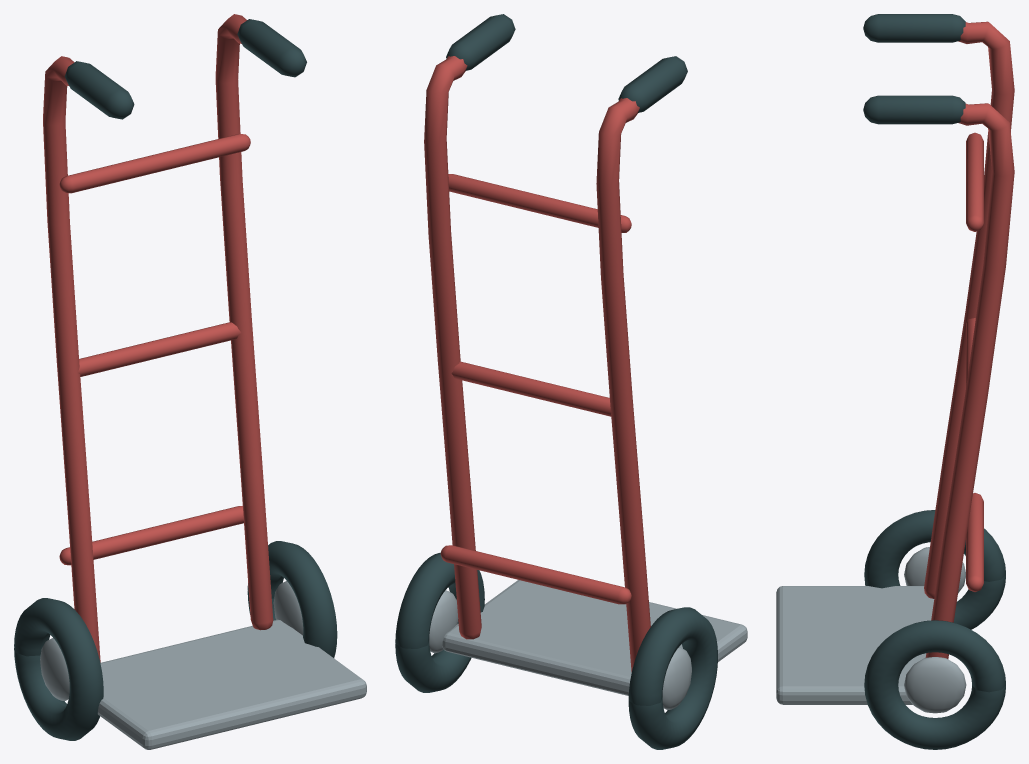
File: handtruck.glb
3 renders of one model, left to right at view 1: azimuth 30°, elevation 25°; view 2: azimuth 150°, elevation 25°; view 3: azimuth 270°, elevation 25°, orthographic. The views are drawn at different scales.
Parts seen in each view (by area): view 1: Toe_plate, Red_frame.001, Red_frame, Tyre, Tyre.001, Crossbar.002, Crossbar, Crossbar.001, Rubber_grip.001, Rubber_grip, Hub, Hub.001; view 2: Toe_plate, Red_frame.001, Red_frame, Tyre, Tyre.001, Crossbar, Crossbar.002, Crossbar.001, Rubber_grip, Rubber_grip.001, Hub, Hub.001; view 3: Toe_plate, Red_frame.001, Tyre.001, Red_frame, Tyre, Rubber_grip.001, Rubber_grip, Hub.001, Crossbar.002, Crossbar, Hub.
Part boxes in pixels (x1,y1,x2,y2): Toe_plate: [97, 619, 366, 749]; Red_frame.001: [215, 14, 273, 630]; Red_frame: [43, 56, 100, 662]; Tyre: [14, 598, 103, 740]; Tyre.001: [247, 541, 337, 657]; Crossbar.002: [59, 134, 250, 193]; Crossbar: [59, 506, 243, 565]; Crossbar.001: [78, 322, 241, 376]; Rubber_grip.001: [237, 19, 306, 77]; Rubber_grip: [64, 61, 134, 119]; Hub: [40, 638, 69, 700]; Hub.001: [273, 581, 303, 635]; Toe_plate: [442, 580, 747, 695]; Red_frame.001: [424, 56, 481, 639]; Red_frame: [596, 98, 650, 671]; Tyre: [628, 607, 717, 749]; Tyre.001: [395, 552, 484, 692]; Crossbar: [440, 545, 631, 604]; Crossbar.002: [448, 174, 631, 232]; Crossbar.001: [451, 361, 611, 416]; Rubber_grip: [618, 56, 687, 112]; Rubber_grip.001: [446, 14, 515, 70]; Hub: [662, 647, 691, 709]; Hub.001: [429, 590, 458, 653]; Toe_plate: [776, 586, 934, 704]; Red_frame.001: [925, 103, 1014, 658]; Tyre.001: [864, 620, 1005, 749]; Red_frame: [924, 21, 1014, 598]; Tyre: [864, 510, 1005, 629]; Rubber_grip.001: [863, 95, 965, 124]; Rubber_grip: [863, 14, 965, 42]; Hub.001: [904, 657, 966, 713]; Crossbar.002: [966, 132, 983, 231]; Crossbar: [966, 493, 983, 591]; Hub: [904, 547, 965, 593].
Size of the model in its own units: 0.52 by 1.24 by 0.42.
